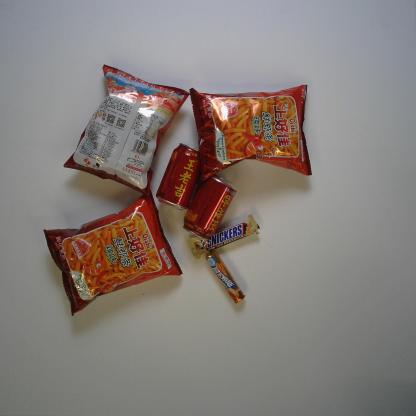Candy: (205, 250, 246, 304)
Chocolate: (187, 214, 261, 256)
Drink: (182, 174, 237, 241), (155, 142, 202, 211)
Puffed Food: (43, 188, 184, 317), (63, 64, 191, 201), (188, 84, 313, 183)
